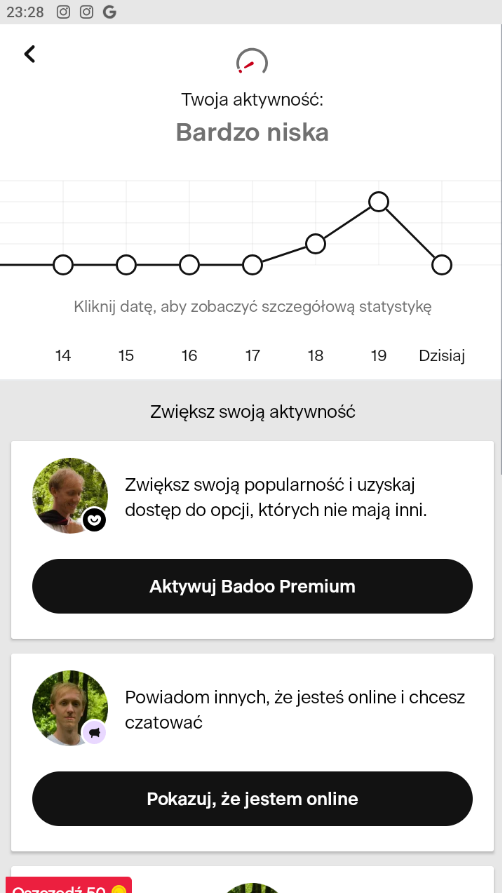kupno_button: (36, 557, 473, 612), (36, 771, 473, 826)
